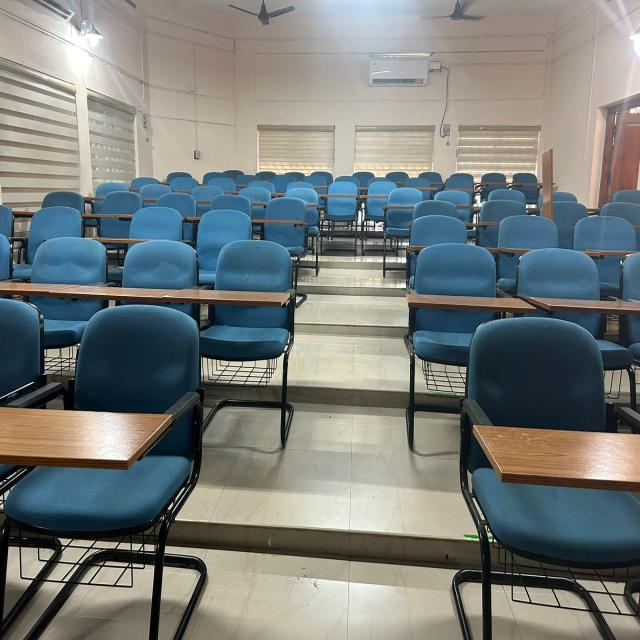car ahead at: (208, 242, 296, 358), (515, 248, 628, 318), (412, 244, 486, 345), (27, 244, 105, 331), (120, 240, 198, 304), (323, 180, 365, 224)
chair ahead at: (460, 312, 640, 612), (30, 296, 200, 610)
